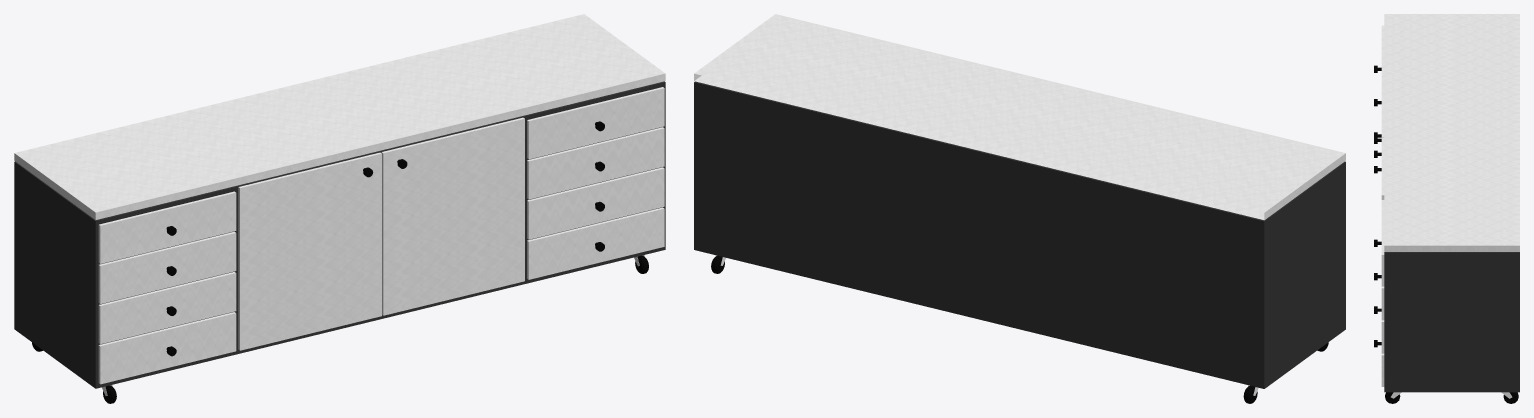
File: Cabinet2.FBX
3 views of the same model, side by side, from view 1: azimuth 30°, elevation 25°; view 2: azimuth 150°, elevation 25°; view 3: azimuth 270°, elevation 25° (orthographic). The views are drawn at different scales.
Visible parts, largest first — view 1: Box017, Box015; view 2: Box015, Box017; view 3: Box017, Box015, ChamferCyl001, Cylinder007, Cylinder014.
Boxes of the visible parts, bbox=[...] form: Box017: bbox=[14, 14, 665, 384]; Box015: bbox=[14, 81, 665, 388]; Box015: bbox=[694, 81, 1345, 388]; Box017: bbox=[694, 14, 1345, 220]; Box017: bbox=[1381, 14, 1519, 386]; Box015: bbox=[1384, 252, 1519, 392]; ChamferCyl001: bbox=[1385, 392, 1518, 403]; Cylinder007: bbox=[1374, 239, 1381, 347]; Cylinder014: bbox=[1374, 65, 1381, 173].
Size of the model in its own units: 4443 by 1479 by 1183.
